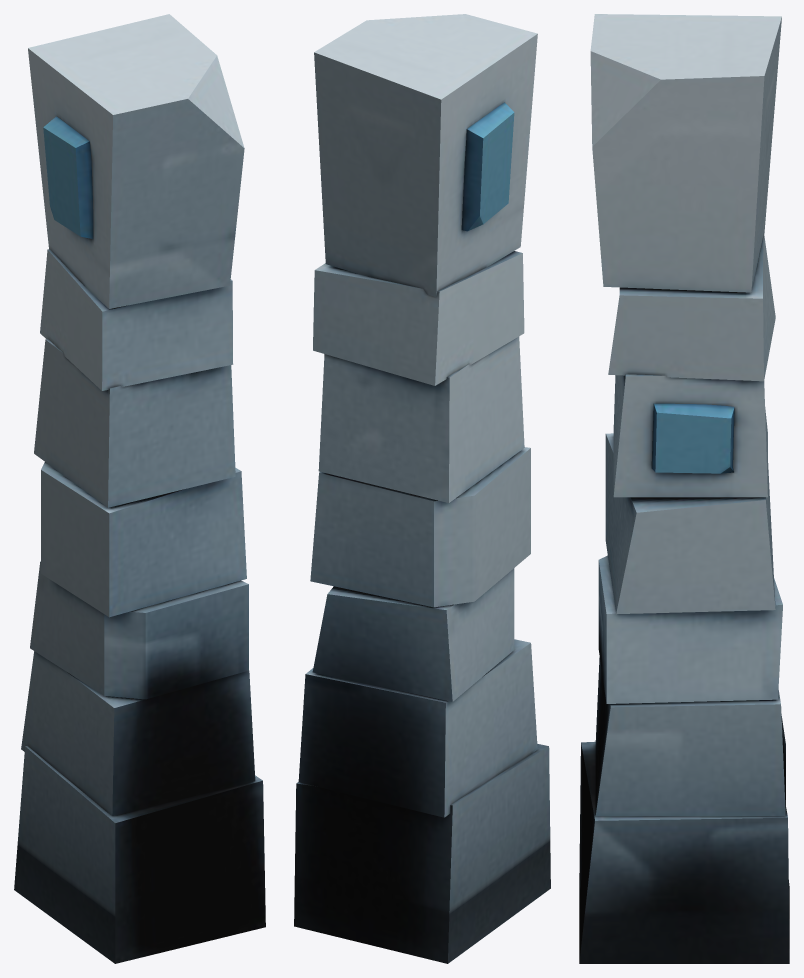
The model's file is totem.FBX.
3 renders of one model, left to right at view 1: azimuth 30°, elevation 25°; view 2: azimuth 150°, elevation 25°; view 3: azimuth 270°, elevation 25°, orthographic. The views are drawn at different scales.
Parts seen in each view (by area): view 1: Wall001; view 2: Wall001; view 3: Wall001.
Part boxes in pixels (<box>): Wall001: <box>14,14,265,963</box>; Wall001: <box>294,14,550,963</box>; Wall001: <box>579,14,789,963</box>.
Bounding box in the file's own units: 63.21 × 324 × 69.91.
